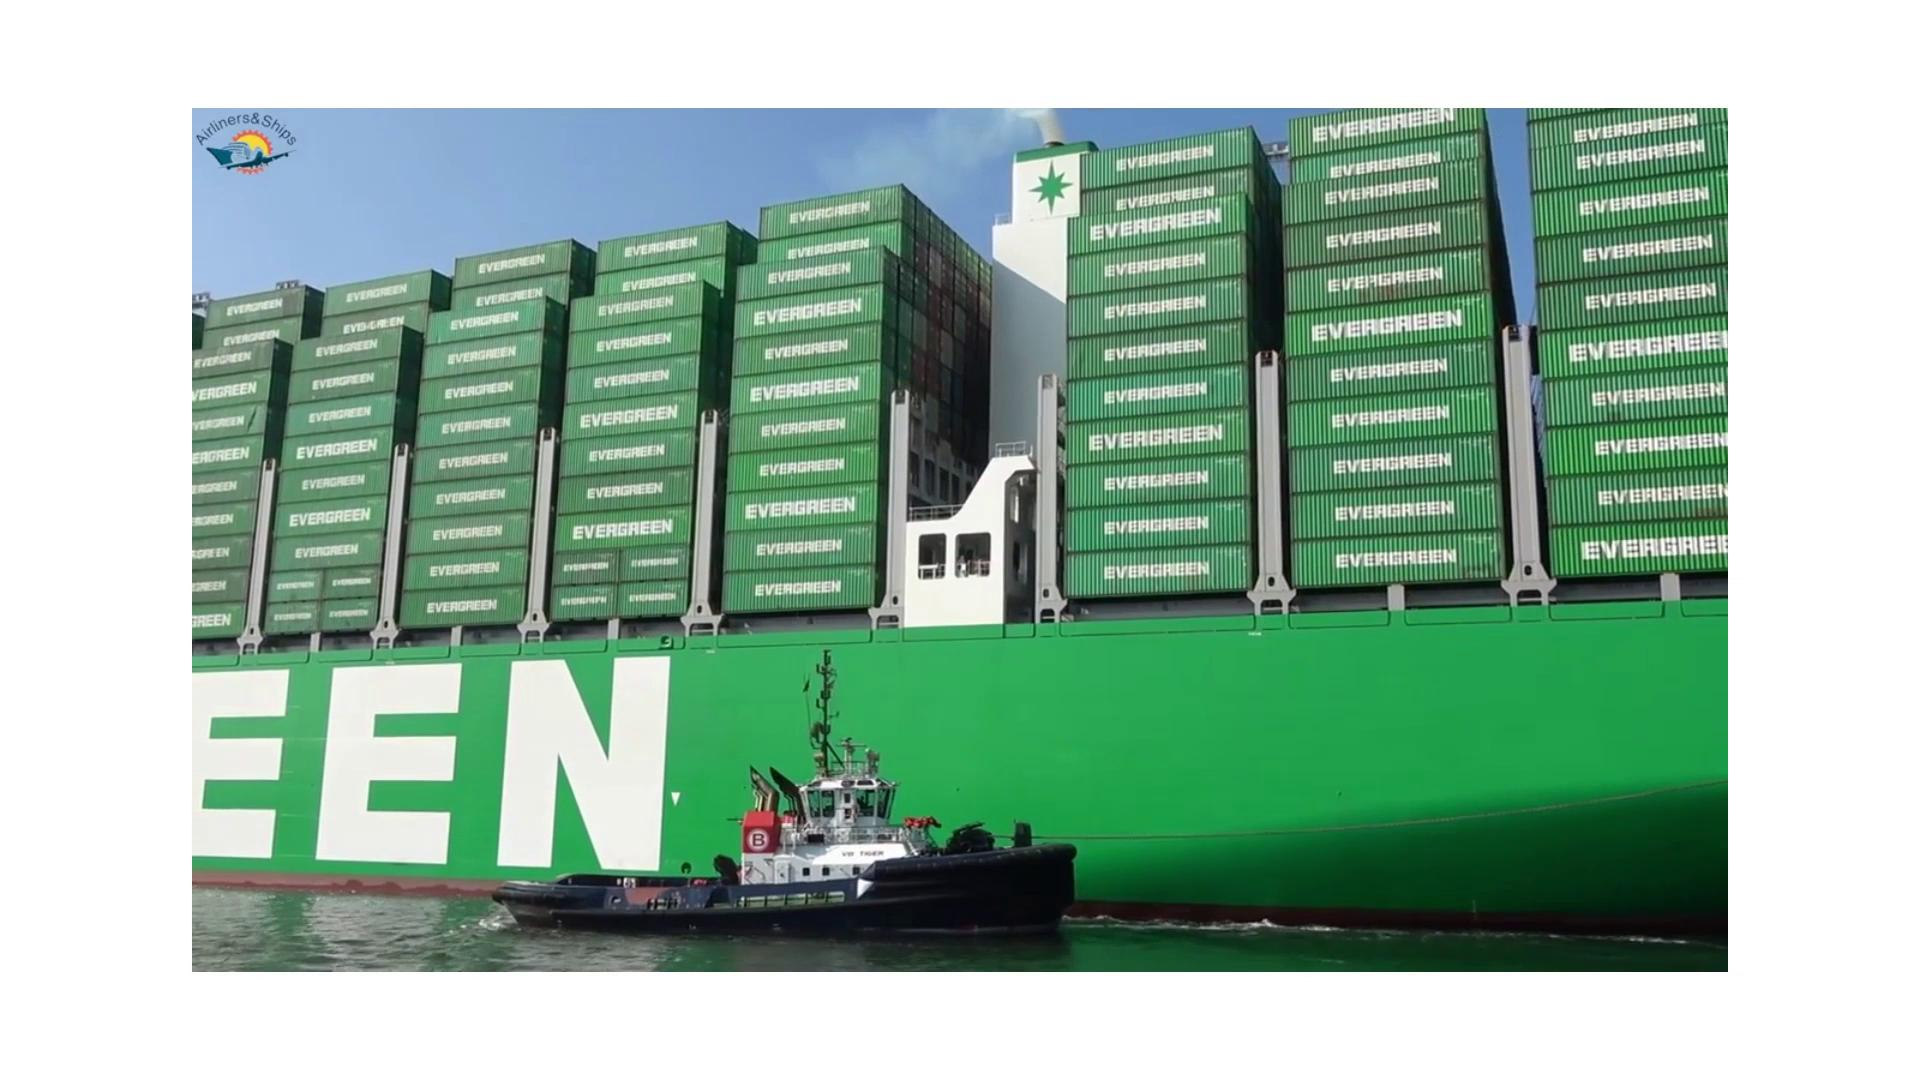OCR: (199, 637, 705, 903)
